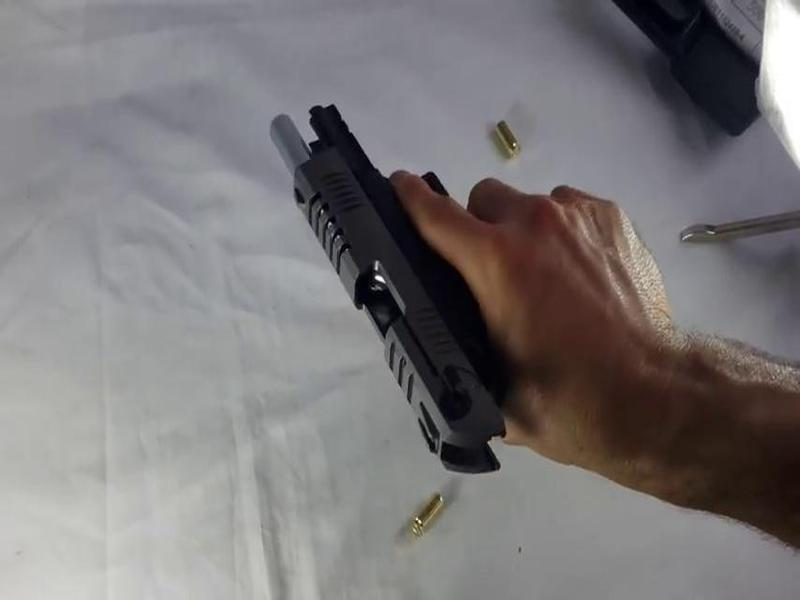Pistola: (248, 88, 553, 486)
